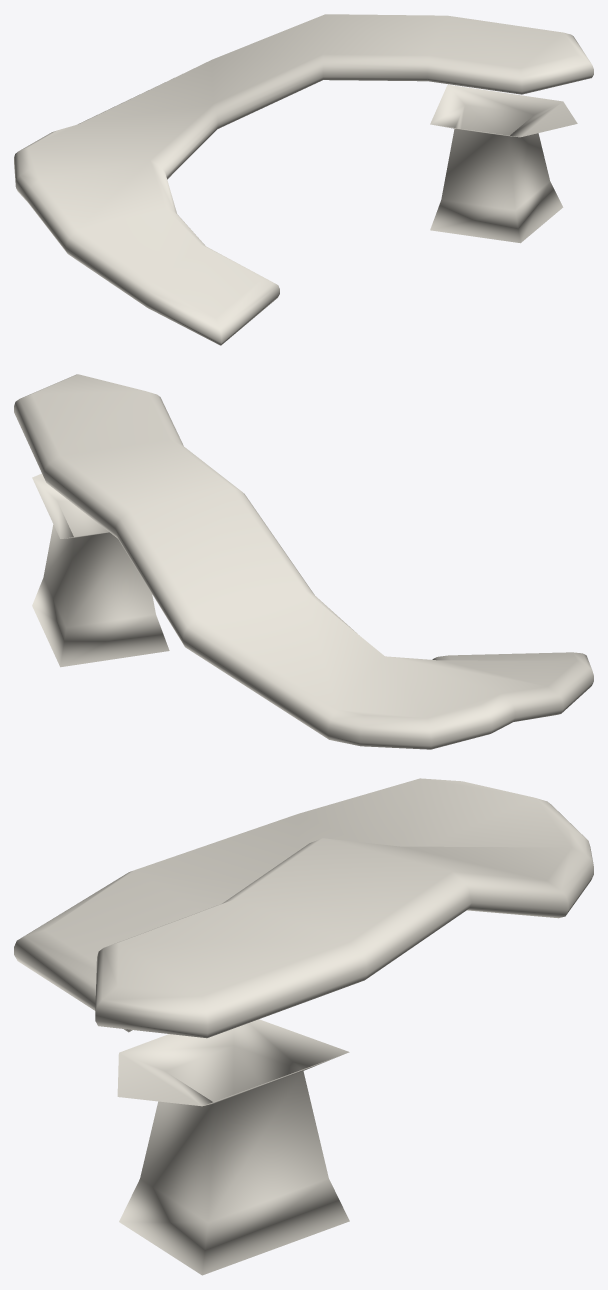
The model's file is M_Path_Large_Snow_A.fbx.
3 renders of one model, top to bottom at view 1: azimuth 30°, elevation 25°; view 2: azimuth 150°, elevation 25°; view 3: azimuth 270°, elevation 25°, orthographic. The views are drawn at different scales.
Parts seen in each view (by area): view 1: M_Path_Large_Snow_A; view 2: M_Path_Large_Snow_A; view 3: M_Path_Large_Snow_A.
Boxes of the visible parts, x1=… form: M_Path_Large_Snow_A: x1=14, y1=14, x2=593, y2=345; M_Path_Large_Snow_A: x1=14, y1=374, x2=593, y2=749; M_Path_Large_Snow_A: x1=14, y1=778, x2=593, y2=1275.
Size of the model in its own units: 4046 by 1405 by 2644.
1 material, 1 textured.
